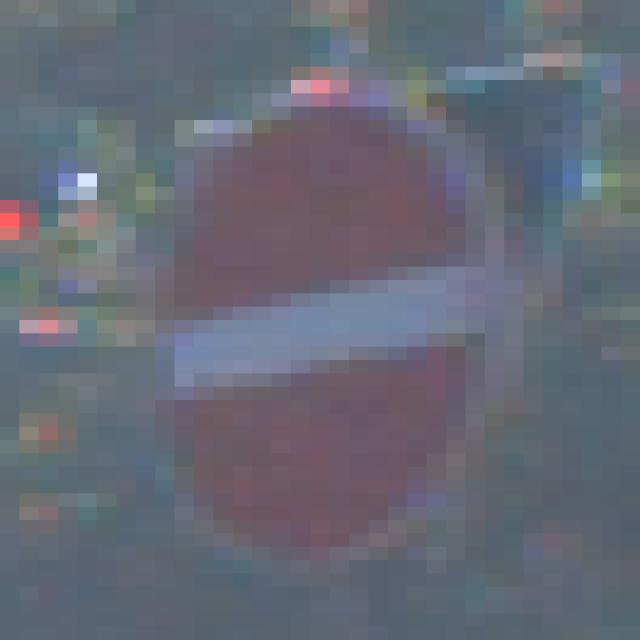No Entry: (98, 68, 525, 561)
